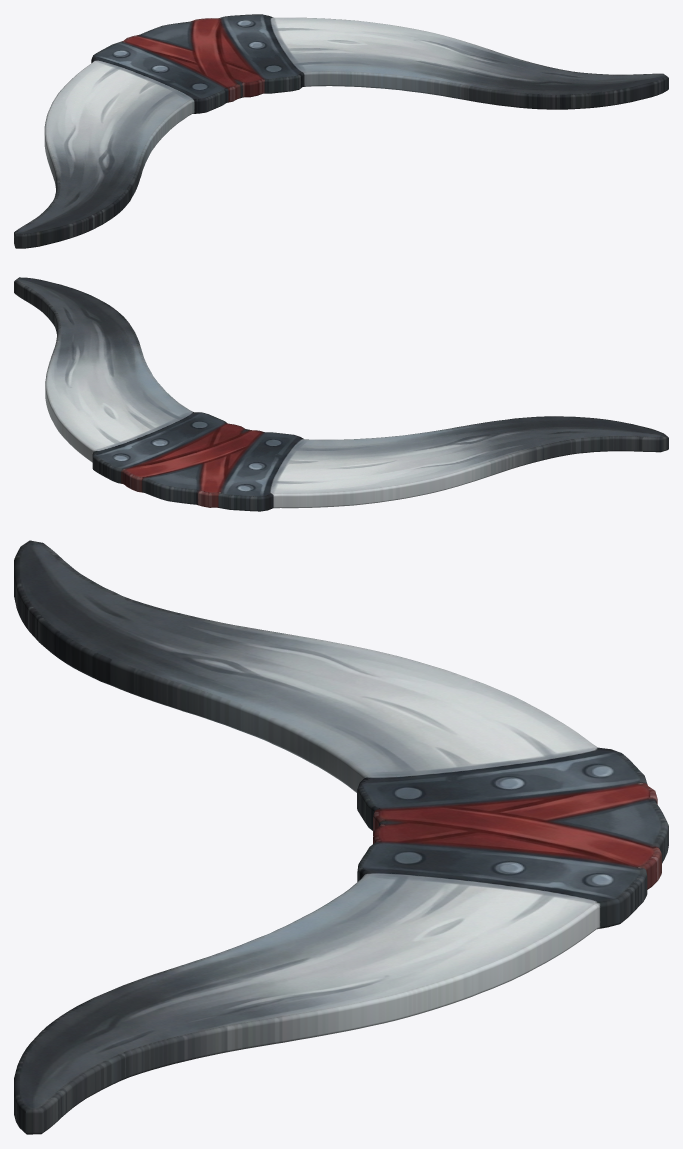
File: Boomerang_49.fbx
3 views of the same model, one above another, from view 1: azimuth 30°, elevation 25°; view 2: azimuth 150°, elevation 25°; view 3: azimuth 270°, elevation 25° (orthographic). The views are drawn at different scales.
Visible parts, largest first — view 1: Boomerang_49; view 2: Boomerang_49; view 3: Boomerang_49.
Part boxes in pixels (x1=…): Boomerang_49: x1=14, y1=14, x2=668, y2=248; Boomerang_49: x1=14, y1=277, x2=668, y2=511; Boomerang_49: x1=14, y1=540, x2=668, y2=1134.
Size of the model in its own units: 222 by 4.6 by 108.
Materials: 1 (1 with a texture image).
